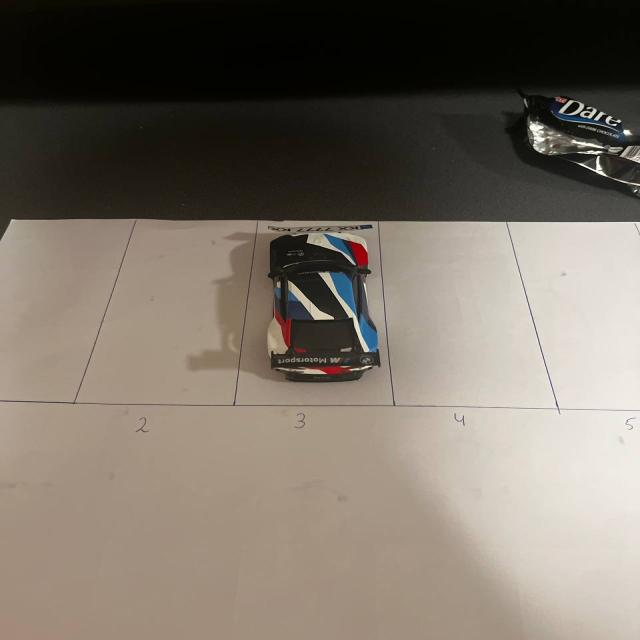KX 7777 KX: (267, 224, 384, 235)
